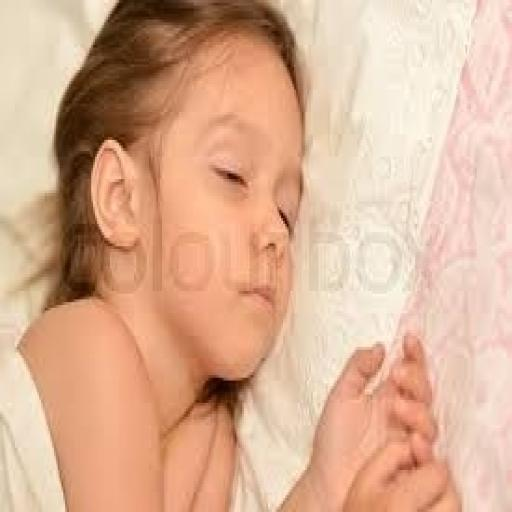sleeping: (2, 0, 462, 509)
